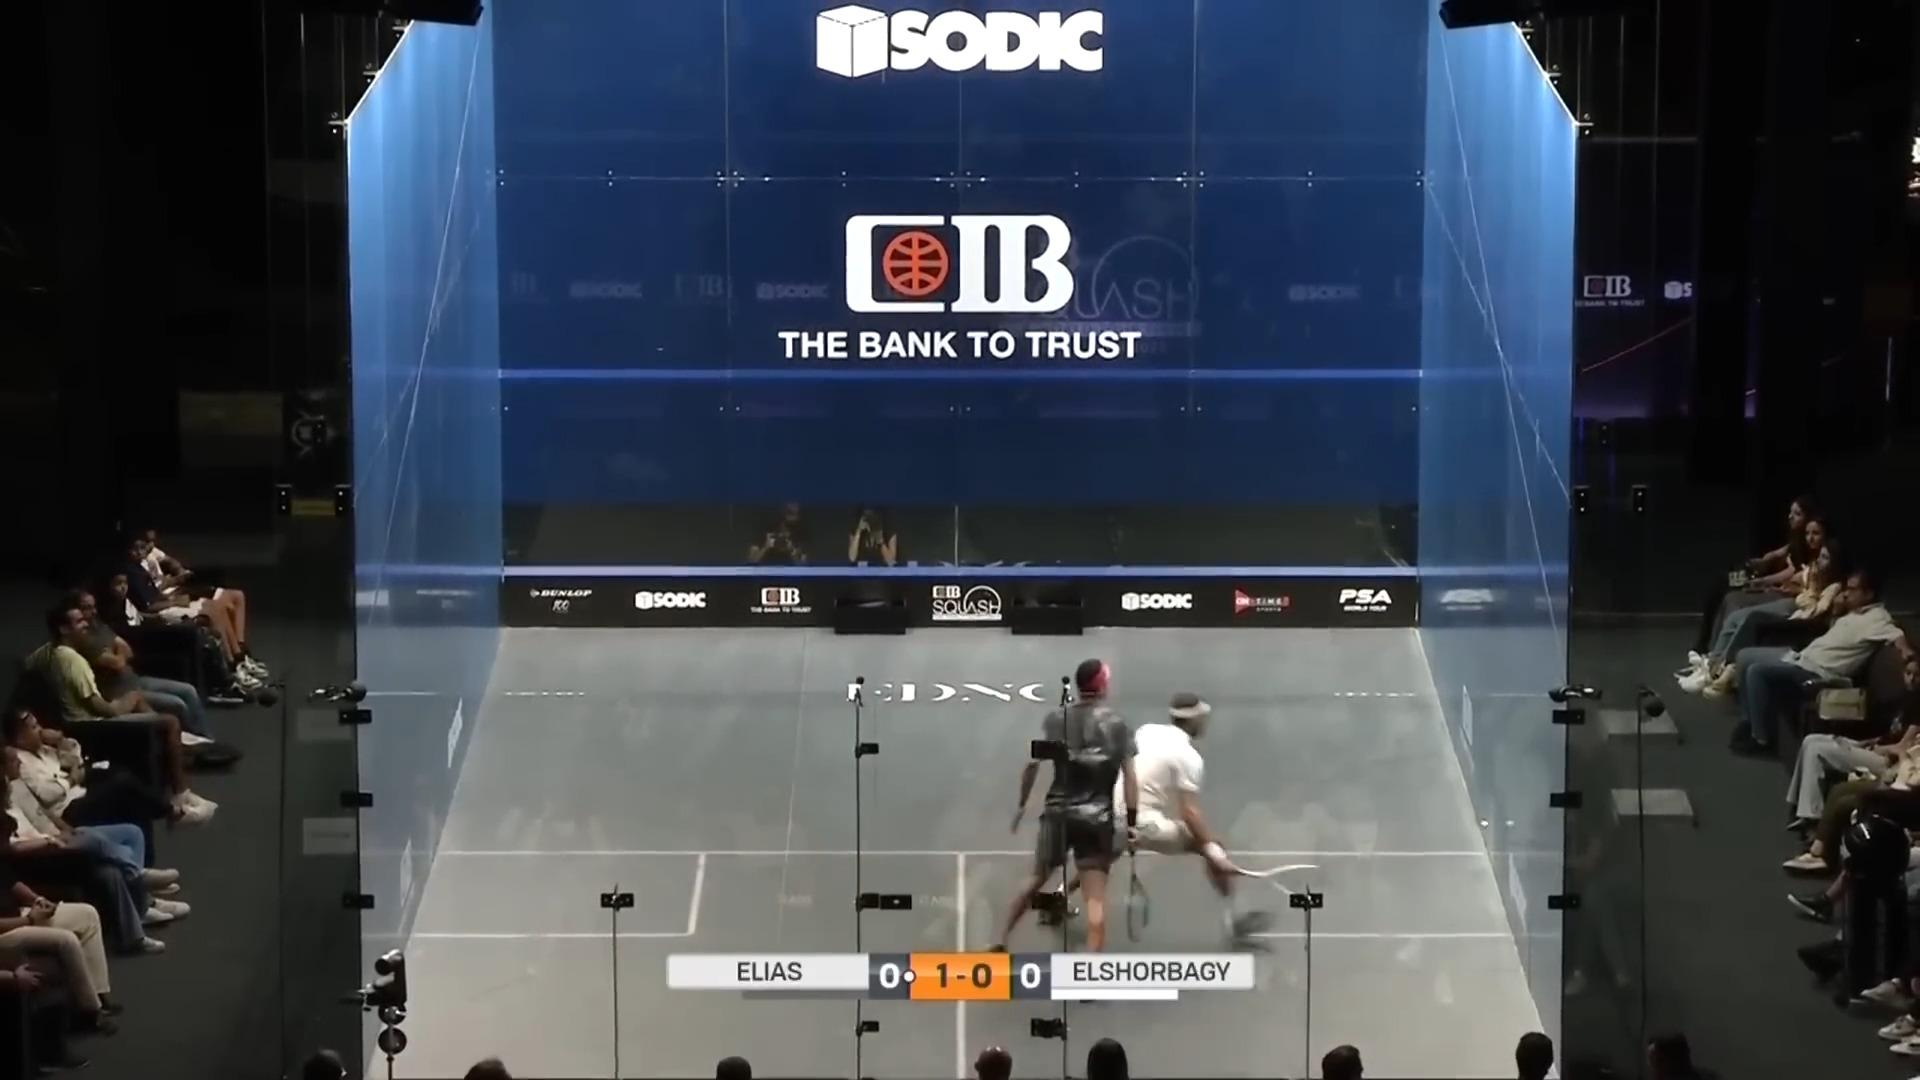Squash-Ball: (1474, 808, 1495, 837)
